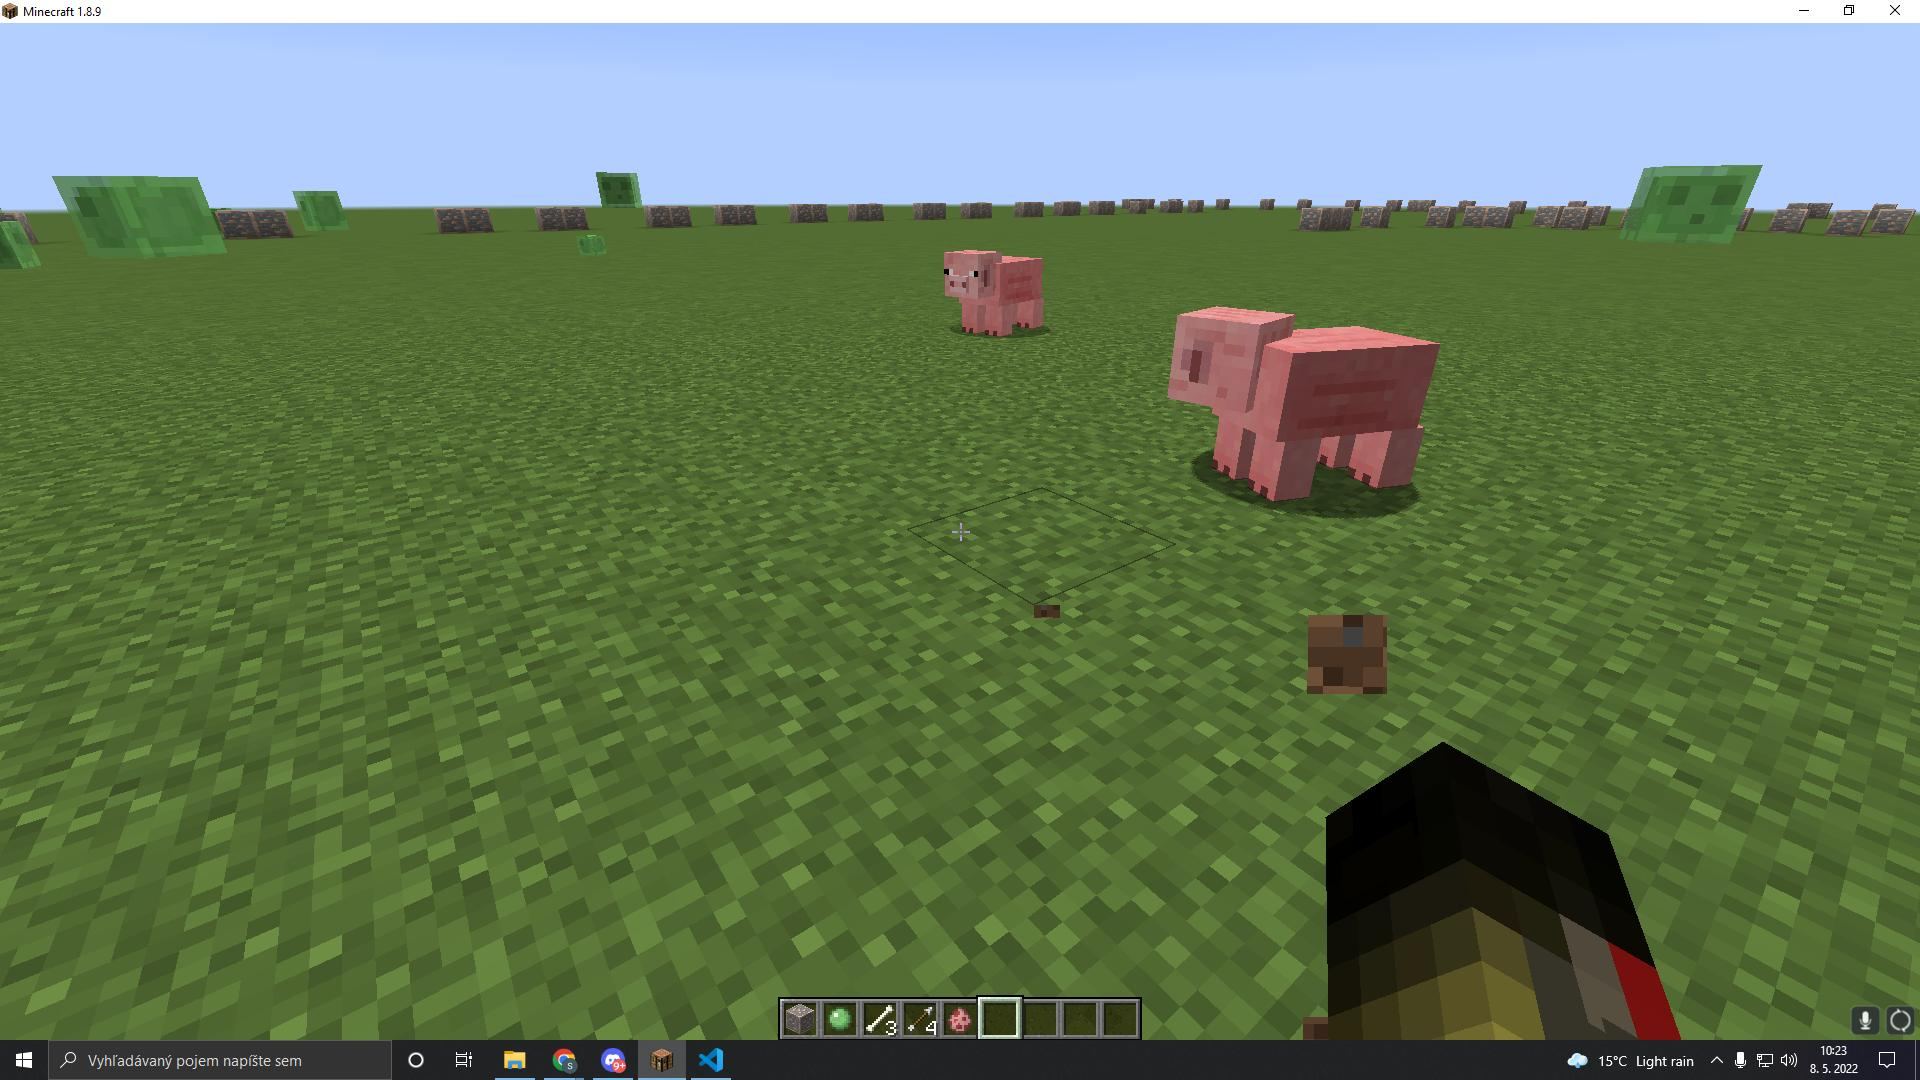pig: (1160, 301, 1453, 516), (932, 241, 1059, 355)
